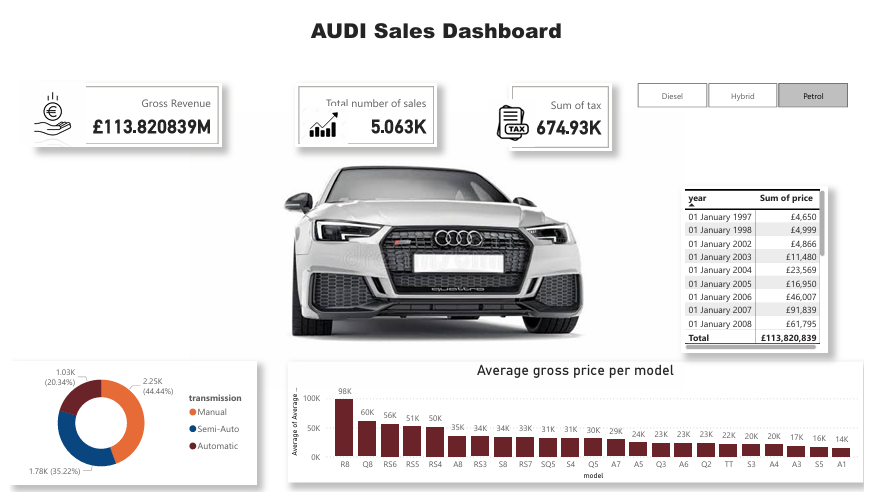

The dashboard page shown, as its layout file describes it:
{"tool":"powerbi","page":{"name":"Page 1","canvas":[1280,720],"ordinal":0},"visuals":[{"type":"clusteredColumnChart","fields":{"Category":["audi.model"],"Y":["Avg(audi.Average price 1)"]},"box":[393.1,748.3,886.2,151.7],"z":0},{"type":"clusteredColumnChart","title":"Average gross price per model","fields":{"Category":["audi.model"],"Y":["Avg(audi.Average price 1)"]},"box":[415.7,524.3,862.9,181.4],"z":1000},{"type":"cardVisual","fields":{"Data":["CountNonNull(audi.price)"]},"box":[428.3,106.7,211.7,96.7],"z":2000},{"type":"cardVisual","fields":{"Data":["Sum(audi.price)"]},"box":[35,106.7,281.7,96.7],"z":3000},{"type":"donutChart","fields":{"Category":["audi.transmission"],"Y":["CountNonNull(audi.transmission)"]},"box":[0,524.3,368.6,184.3],"z":4000},{"type":"image","box":[416.7,136.7,105,66.7],"z":5000},{"type":"image","box":[0,100,126.7,108.3],"z":6000},{"type":"slicer","fields":{"Values":["audi.fuelType"]},"box":[915,100,365,50],"z":7000},{"type":"shape","title":"AUDI Sales Dashboard","box":[153.3,5,971.7,68.3],"z":8000},{"type":"cardVisual","fields":{"Data":["Sum(audi.tax)"]},"box":[748.3,106.7,153.3,101.7],"z":9000},{"type":"pivotTable","fields":{"Rows":["audi.year"],"Values":["Sum(audi.price)"]},"box":[1006.7,261.7,220,250],"z":10000},{"type":"image","box":[710,117.1,81.4,98.6],"z":11000}]}

Visuals, with their boxes in screenshot pixels (x1, y1, x2, y2), scaled from the page's 1280x720 canvas onto the 877x502 screenshot:
"Average gross price per model" clusteredColumnChart: {"x1": 285, "y1": 366, "x2": 876, "y2": 492}
cardVisual - CountNonNull(audi.price): {"x1": 293, "y1": 74, "x2": 438, "y2": 142}
cardVisual - Sum(audi.price): {"x1": 24, "y1": 74, "x2": 217, "y2": 142}
donutChart - audi.transmission x CountNonNull(audi.transmission): {"x1": 0, "y1": 366, "x2": 253, "y2": 494}
image: {"x1": 286, "y1": 95, "x2": 357, "y2": 142}
image: {"x1": 0, "y1": 70, "x2": 87, "y2": 145}
slicer - audi.fuelType: {"x1": 627, "y1": 70, "x2": 876, "y2": 105}
"AUDI Sales Dashboard" shape: {"x1": 105, "y1": 3, "x2": 771, "y2": 51}
cardVisual - Sum(audi.tax): {"x1": 513, "y1": 74, "x2": 618, "y2": 145}
pivotTable - audi.year x Sum(audi.price): {"x1": 690, "y1": 182, "x2": 840, "y2": 357}
image: {"x1": 486, "y1": 82, "x2": 542, "y2": 150}
